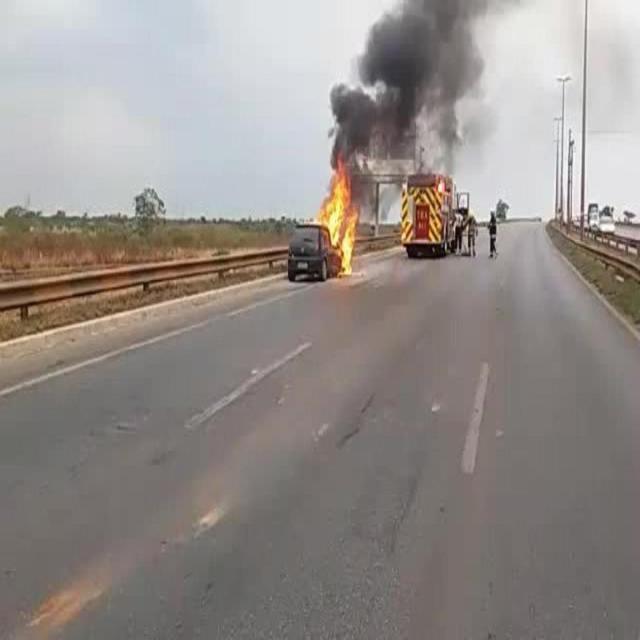Fire: (314, 208, 356, 278), (318, 185, 352, 207), (328, 170, 352, 184), (337, 154, 344, 168)
Smoke: (327, 0, 492, 151), (384, 153, 457, 199), (362, 156, 382, 213), (353, 158, 361, 204), (328, 152, 337, 168), (346, 154, 351, 168)
